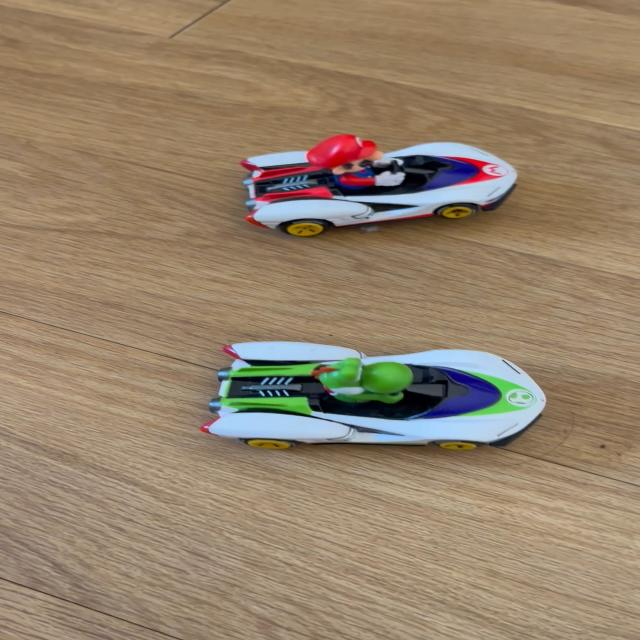mario: (201, 121, 534, 233)
yoshi: (169, 328, 550, 452)
